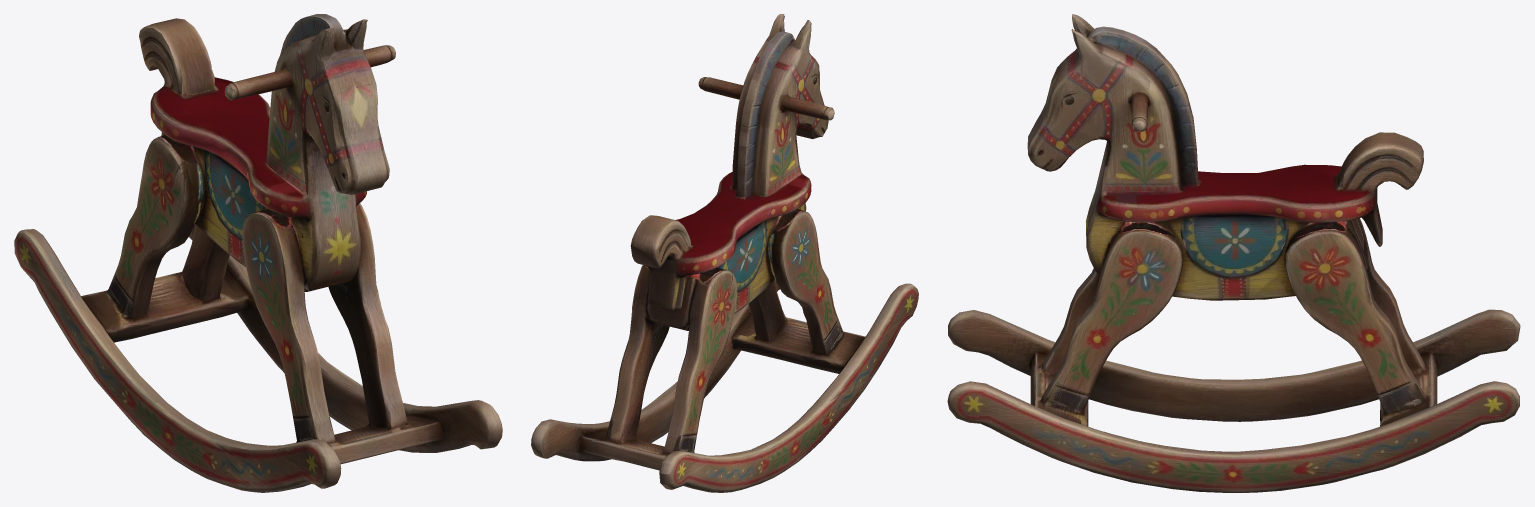
3 views of the same model, side by side, from view 1: azimuth 30°, elevation 25°; view 2: azimuth 150°, elevation 25°; view 3: azimuth 270°, elevation 25° (orthographic). The views are drawn at different scales.
Parts seen in each view (by area): view 1: Mesh0; view 2: Mesh0; view 3: Mesh0.
Part boxes in pixels (left/top/right/bottom): Mesh0: left=14, top=14, right=502, bottom=492; Mesh0: left=531, top=14, right=918, bottom=492; Mesh0: left=947, top=14, right=1520, bottom=492.
Size of the model in its own units: 0.6227 by 1.6 by 1.91.
1 material, 1 textured.
